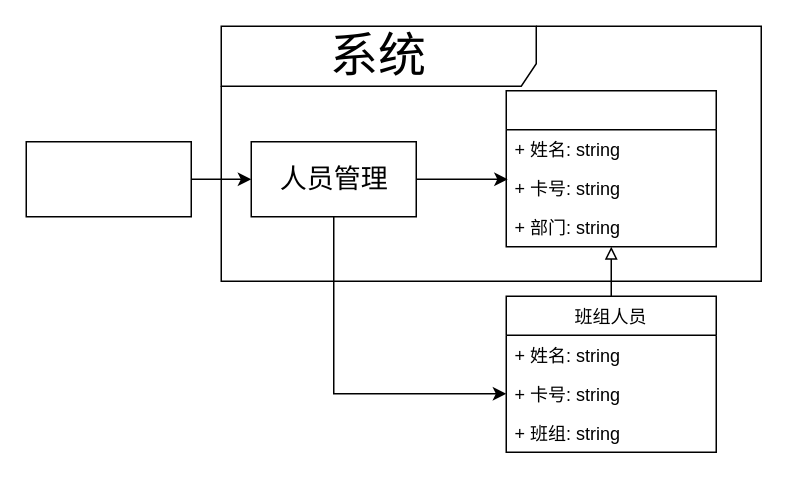
This 788x483 diagram has some shape labels left out. The shapes that lost their labels are listed below. From the top down, each one's box as (x1, y1, x2, y2) in pixels, then its label:
(25, 140, 191, 217): Client
(505, 89, 716, 247): 人员
